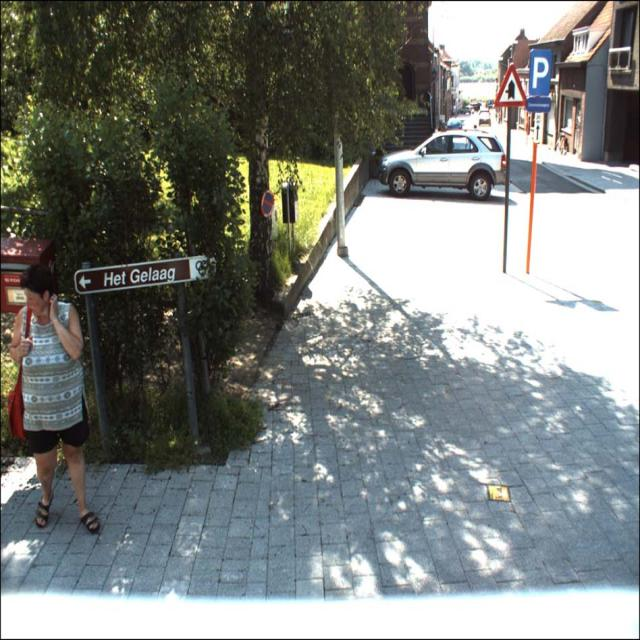park: (530, 48, 550, 97)
parkyasak: (262, 189, 274, 216)
